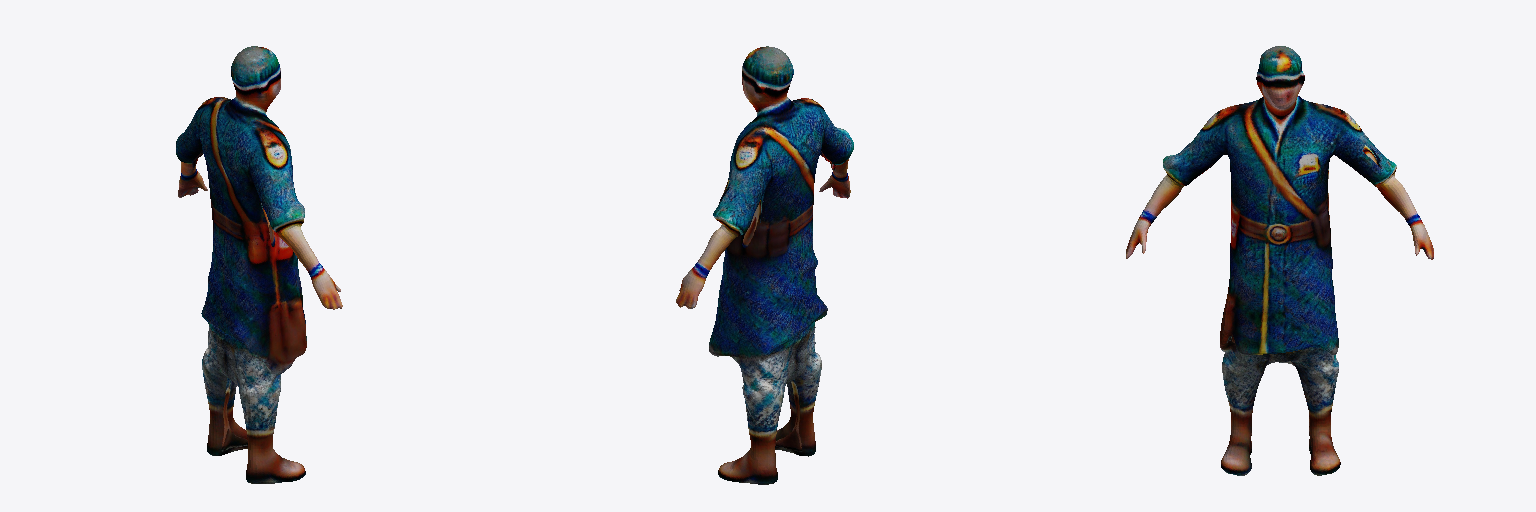
3 renders of one model, left to right at view 1: azimuth 30°, elevation 25°; view 2: azimuth 150°, elevation 25°; view 3: azimuth 270°, elevation 25°, orthographic.
Visible parts, largest first — view 1: mesh; view 2: mesh; view 3: mesh.
Part boxes in pixels (x1,y1,x2,y2): mesh: (176,46,342,483); mesh: (676,46,853,484); mesh: (1126,46,1433,475).
Size of the model in its own units: 0.1944 by 0.9995 by 0.6731.
1 materials, 1 textured.